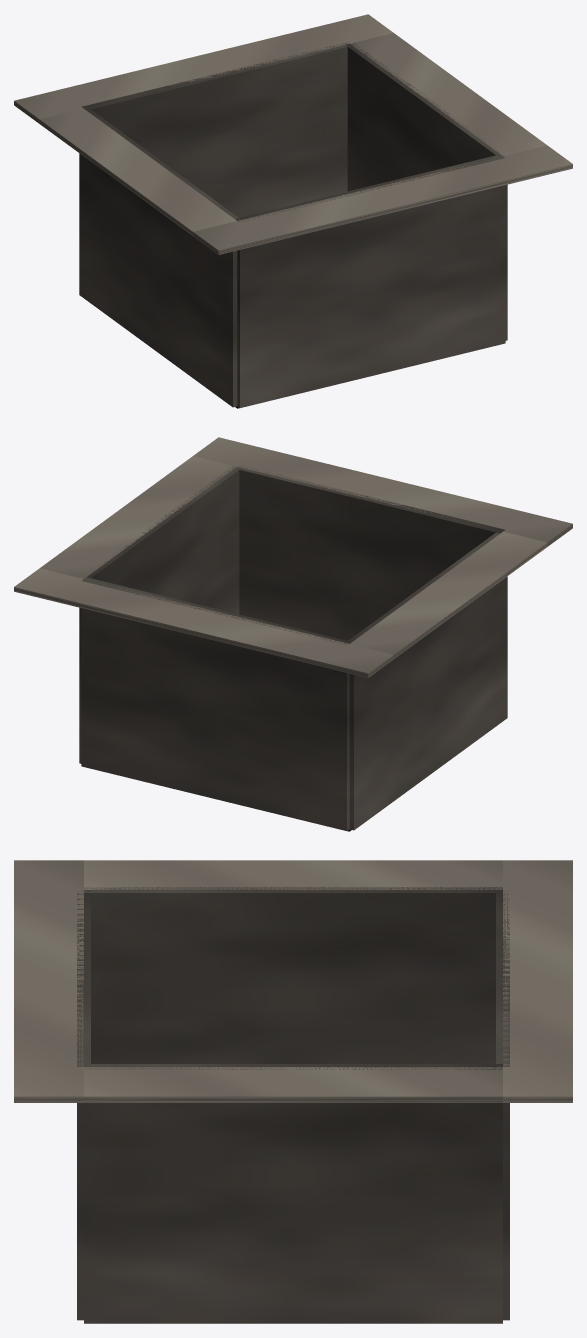
The model's file is pit.obj.
3 views of the same model, one above another, from view 1: azimuth 30°, elevation 25°; view 2: azimuth 150°, elevation 25°; view 3: azimuth 270°, elevation 25° (orthographic). The views are drawn at different scales.
Size of the model in its own units: 8 by 4.05 by 8.
Materials: 1 (1 with a texture image).
